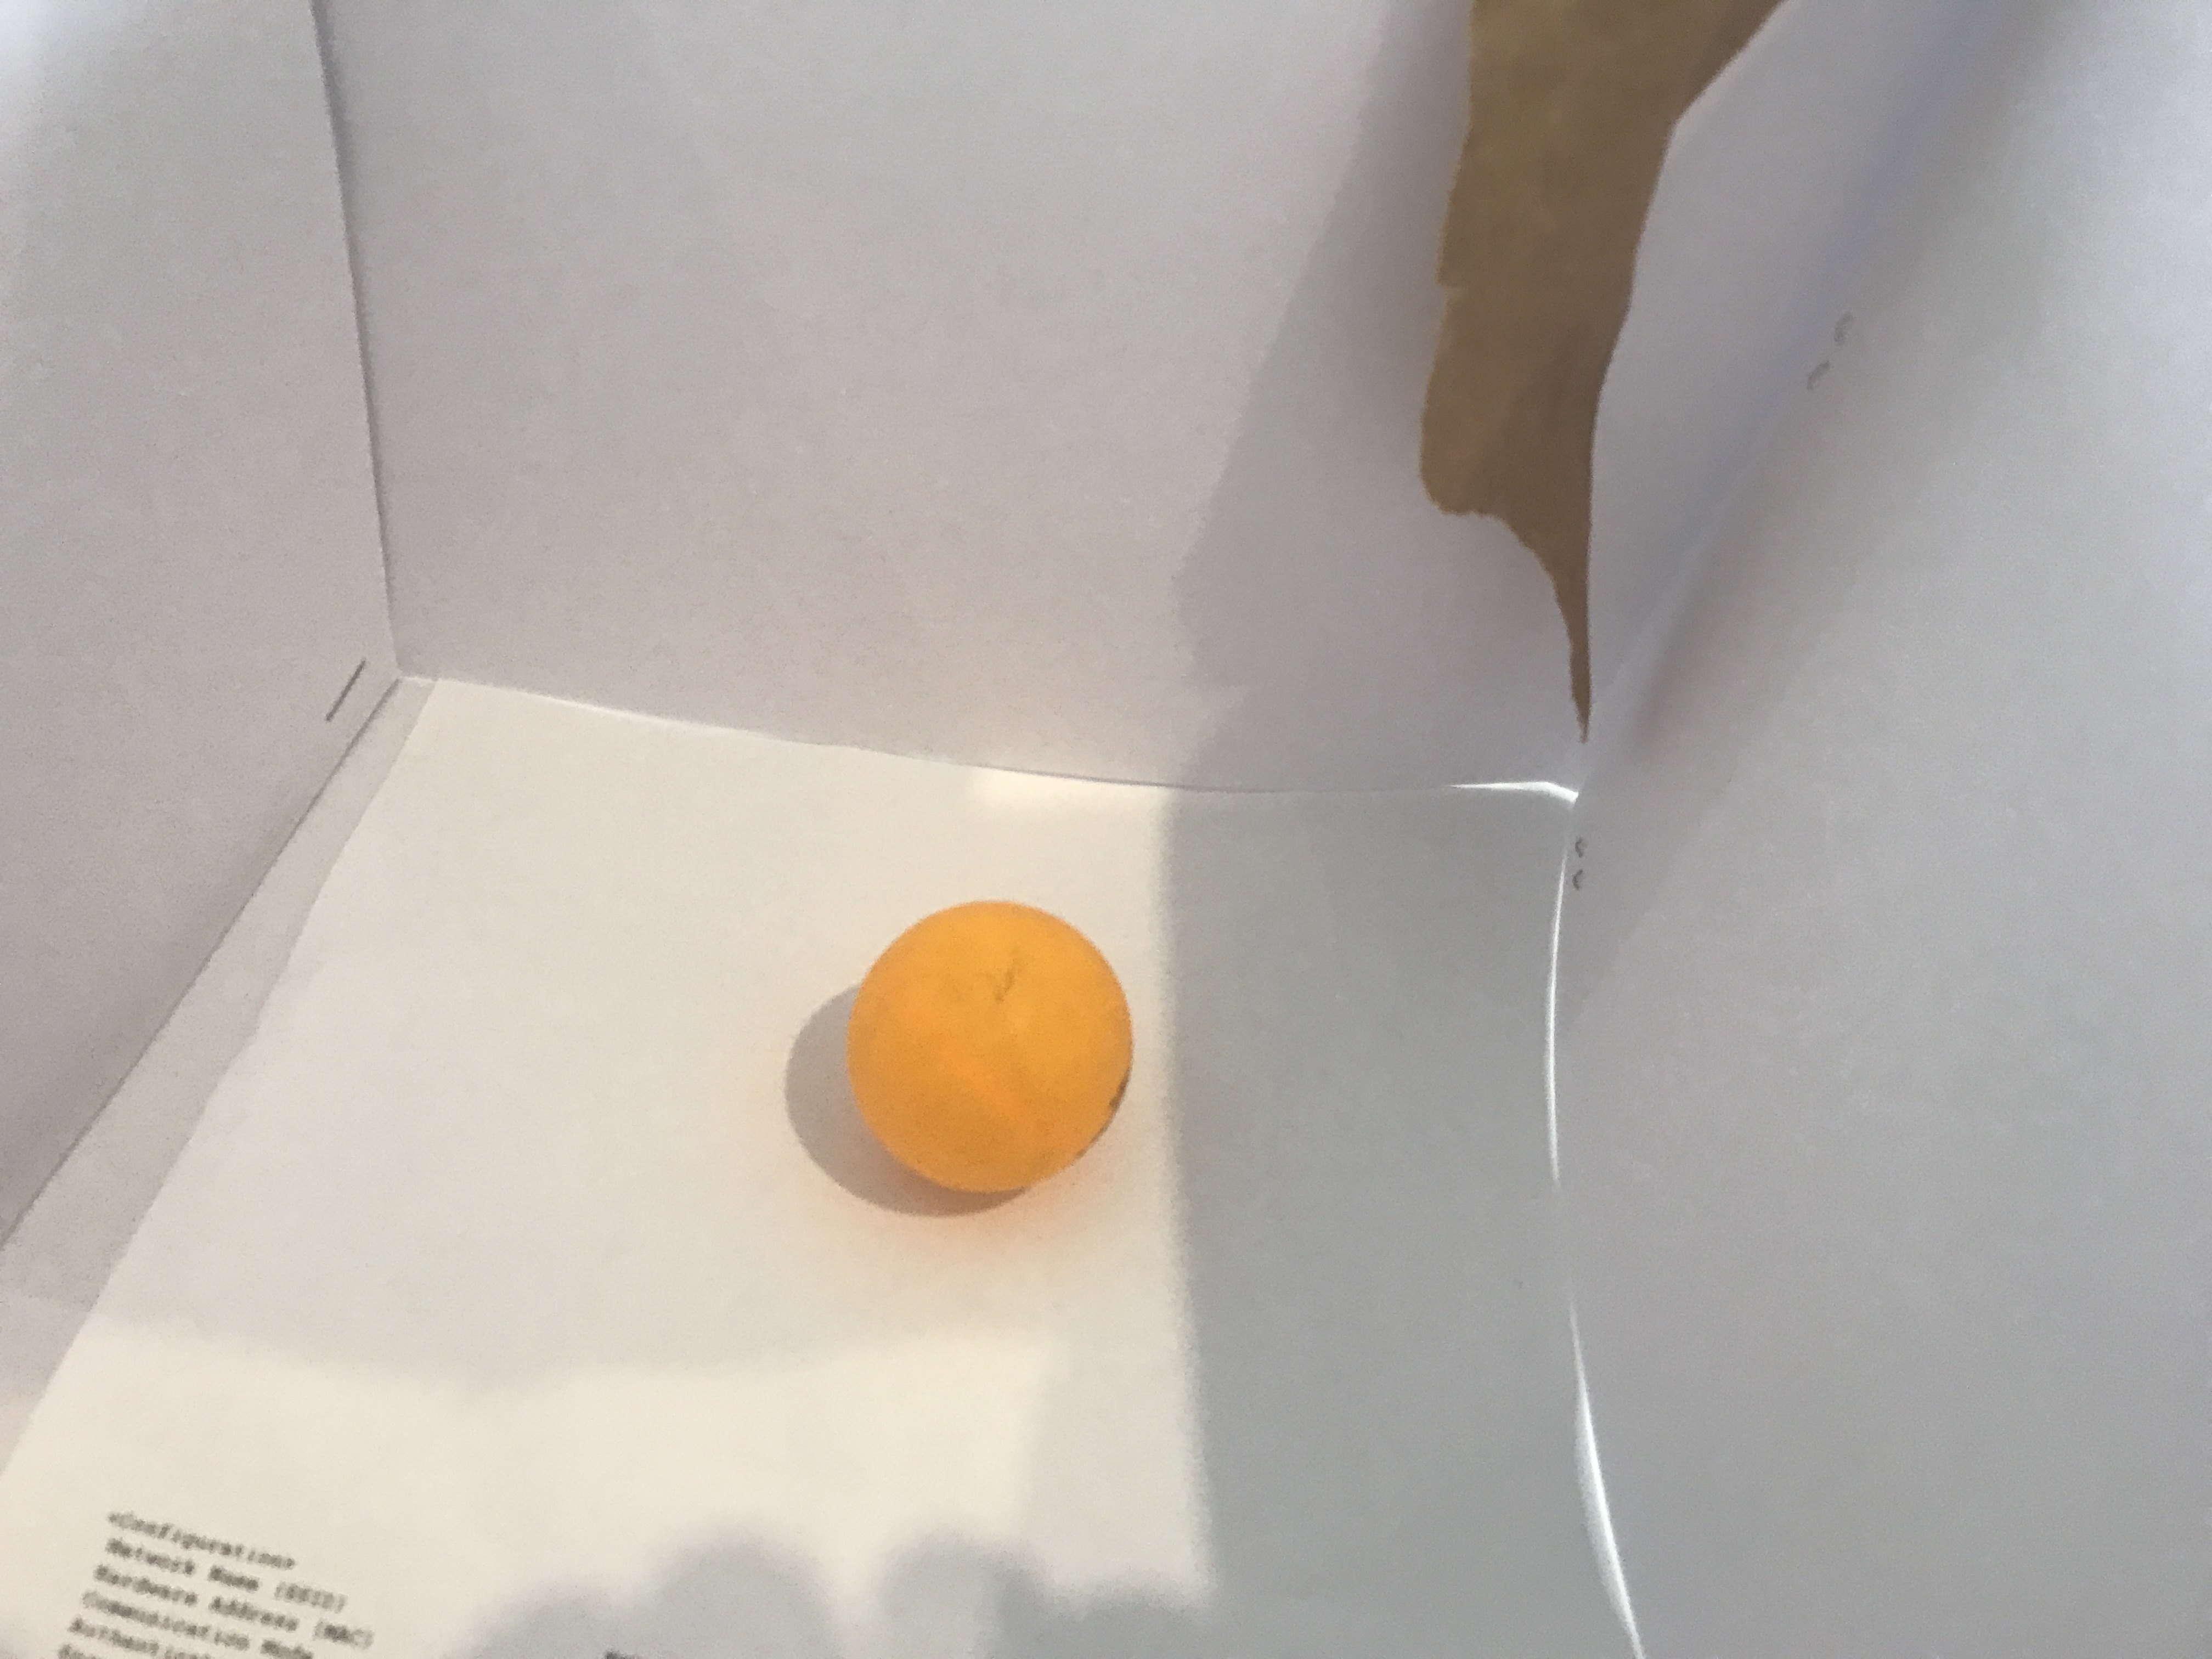pp: (836, 896, 1141, 1208)
